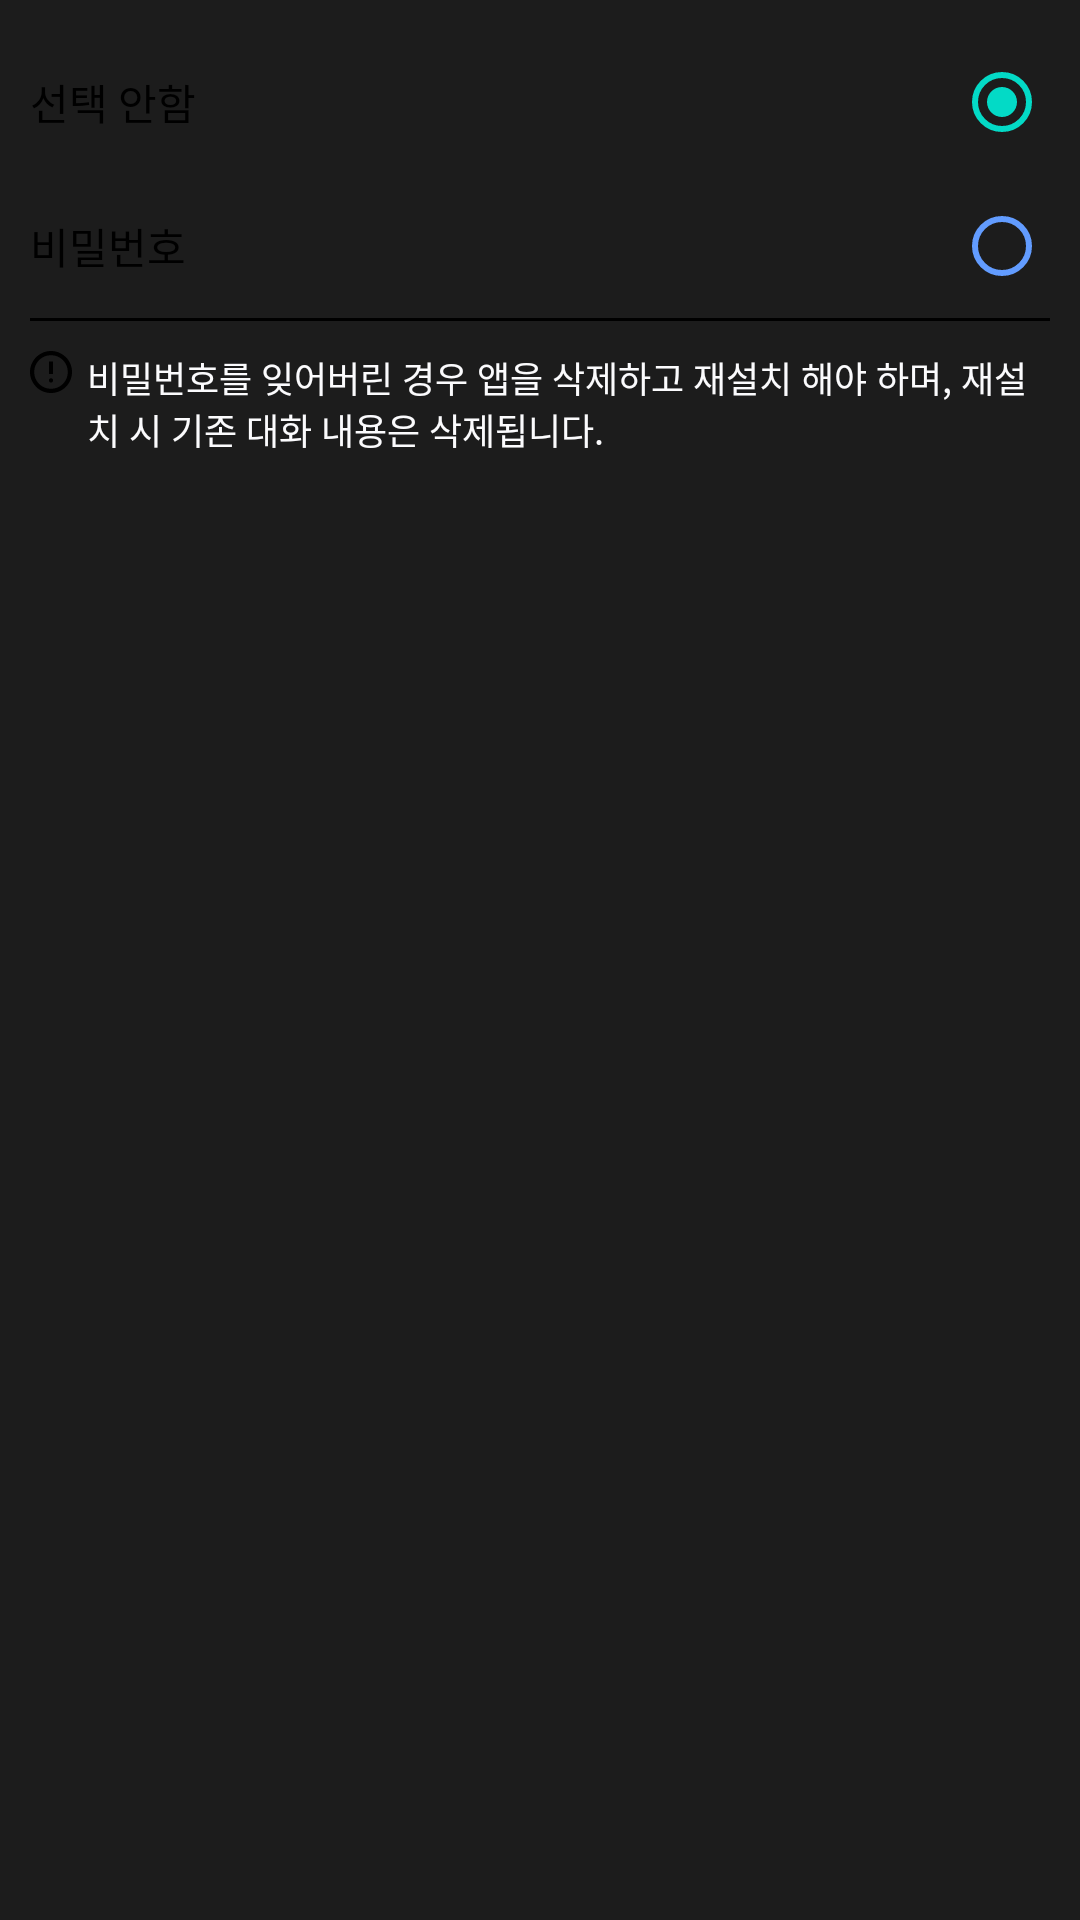

Where icons sit on this 1080px x 1920px app screen, as (x1, y1, x2, y2):
warning: (30, 351, 72, 393)
